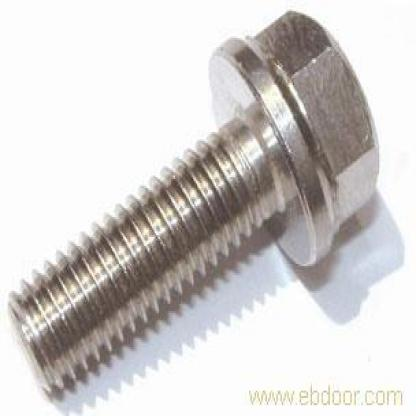FOD: (4, 7, 383, 402)
